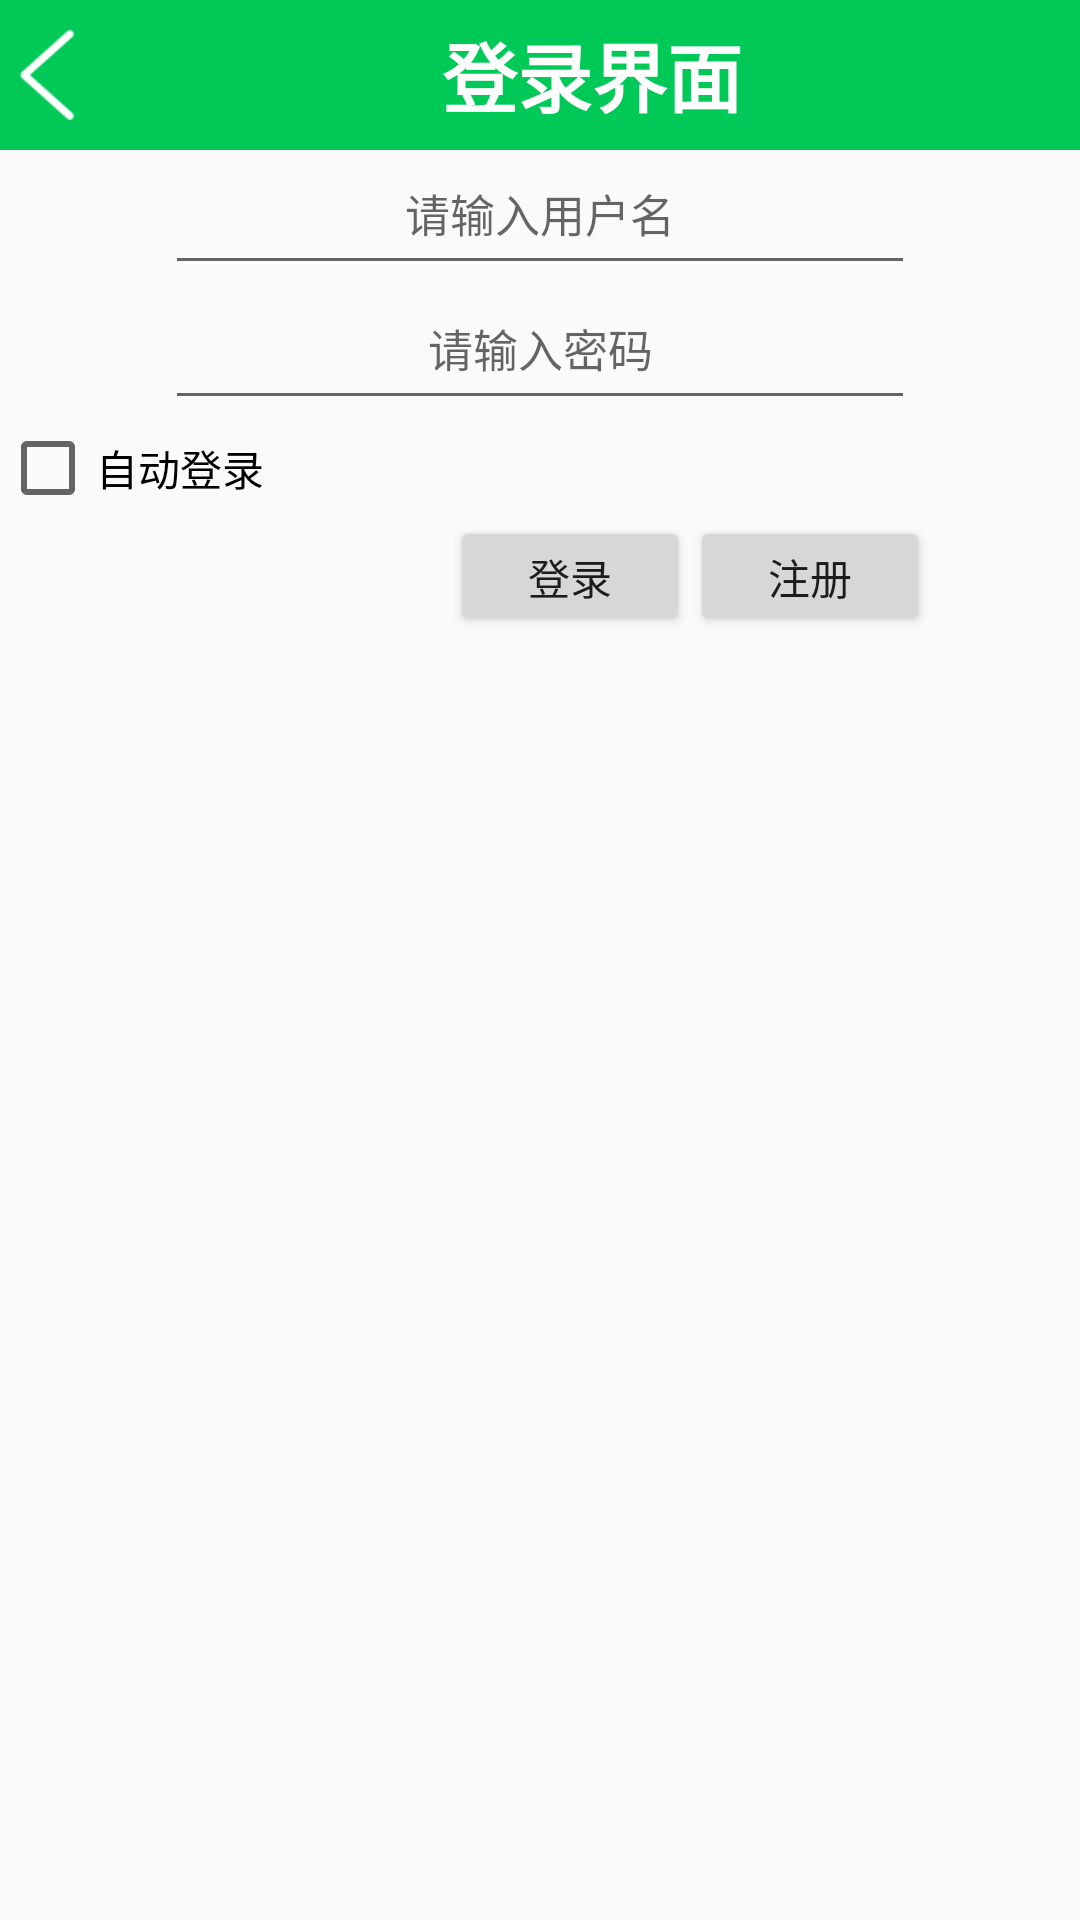

Icon bounding boxes for this 1080w x 1920h phone screenshot, format [left=x1, top=y1, right=x2, bottom=y2]:
back: [left=20, top=30, right=75, bottom=120]
